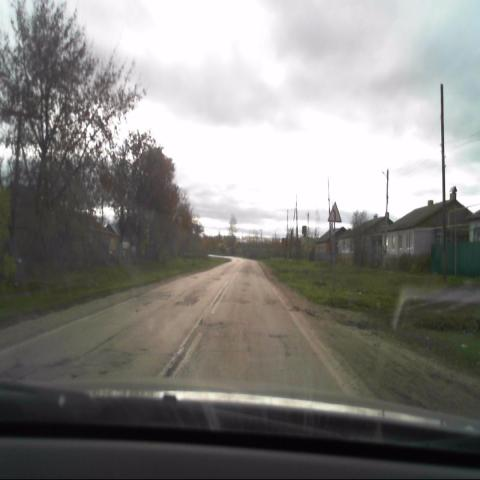1_11_1: (326, 202, 342, 223)
